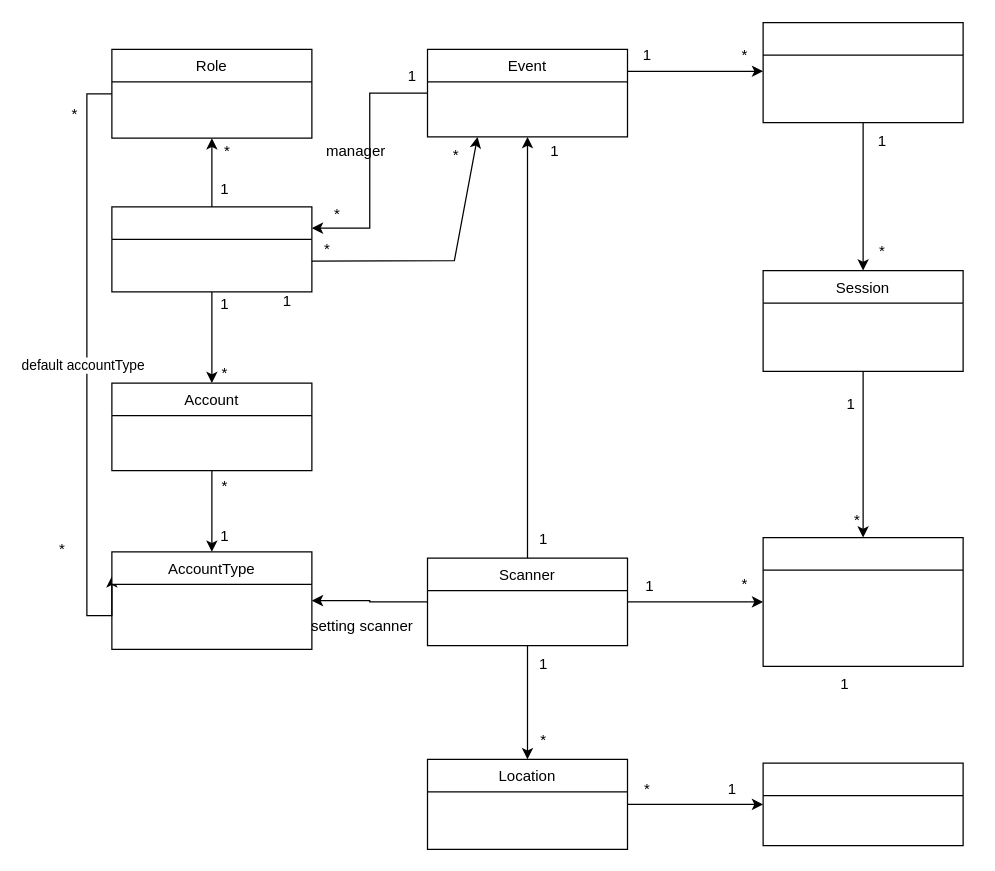
Image size: 995x871. Some labels were removed from this diagram. Each missing label, with the centre of its shape:
"Attendent" belongs at (x=862, y=601).
"LocationType" belongs at (x=862, y=804).
"Member" belongs at (x=211, y=249).
"Schedule" belongs at (x=862, y=71).
